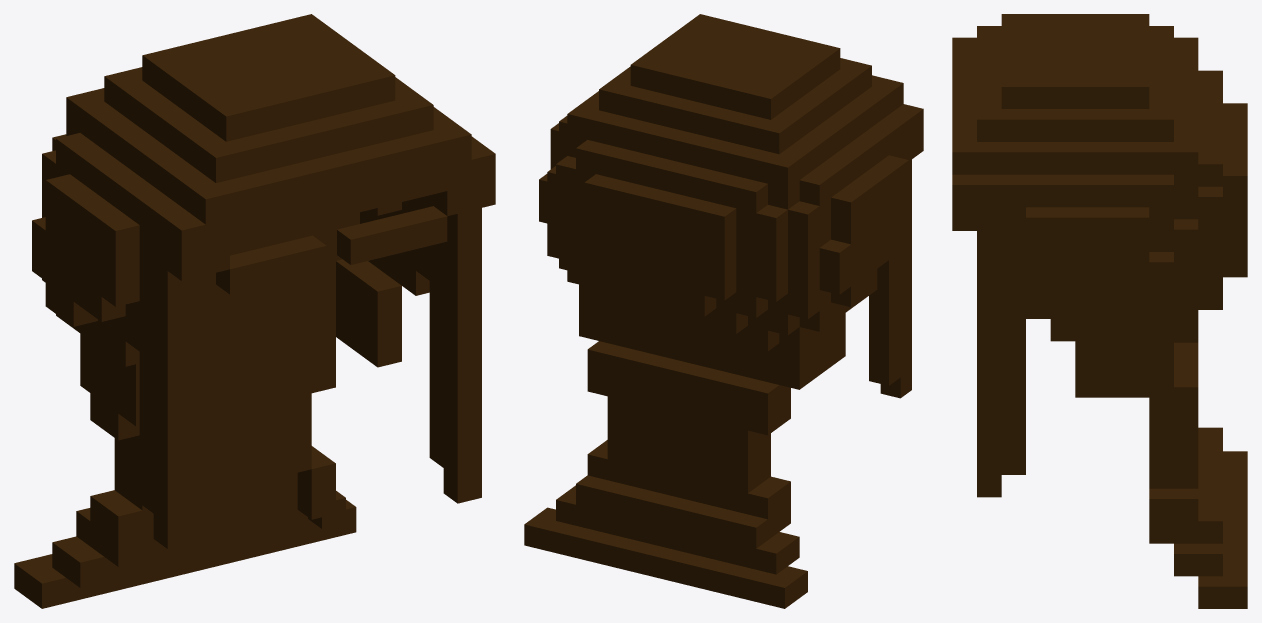
Rendered from Union_22.fbx.
3 views of the same model, side by side, from view 1: azimuth 30°, elevation 25°; view 2: azimuth 150°, elevation 25°; view 3: azimuth 270°, elevation 25° (orthographic). The views are drawn at different scales.
Visible parts, largest first — view 1: Union_22; view 2: Union_22; view 3: Union_22.
Boxes of the visible parts, x1,y1,x2,y2 form: Union_22: (14,14,495,608); Union_22: (524,14,923,608); Union_22: (952,14,1247,608).
Bounding box in the file's own units: 15 × 22 × 12.
1 material, 1 textured.
